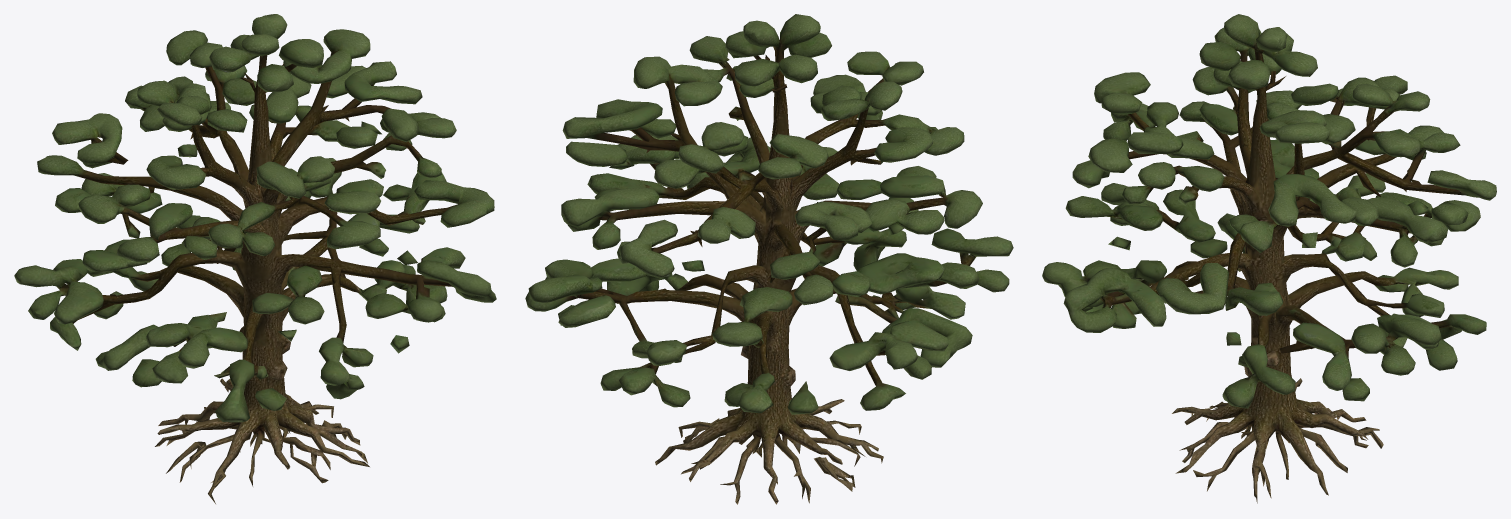
Rendered from roble.glb.
3 renders of one model, left to right at view 1: azimuth 30°, elevation 25°; view 2: azimuth 150°, elevation 25°; view 3: azimuth 270°, elevation 25°, orthographic. The views are drawn at different scales.
Parts seen in each view (by area): view 1: tripo_node_0dd82e41-e58f-43c9-96f7-1a9c62d03783; view 2: tripo_node_0dd82e41-e58f-43c9-96f7-1a9c62d03783; view 3: tripo_node_0dd82e41-e58f-43c9-96f7-1a9c62d03783.
Boxes of the visible parts, box(x1,y1,x2,y2) form: tripo_node_0dd82e41-e58f-43c9-96f7-1a9c62d03783: box(14, 14, 496, 503); tripo_node_0dd82e41-e58f-43c9-96f7-1a9c62d03783: box(525, 14, 1013, 504); tripo_node_0dd82e41-e58f-43c9-96f7-1a9c62d03783: box(1042, 14, 1496, 503).
Size of the model in its own units: 0.9072 by 1 by 0.9456.
1 material, 1 textured.
